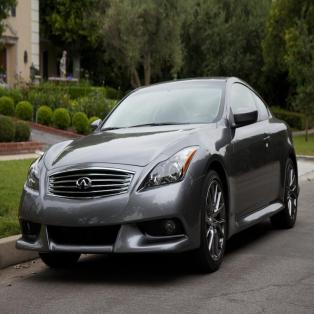Auto: (15, 76, 299, 270)
